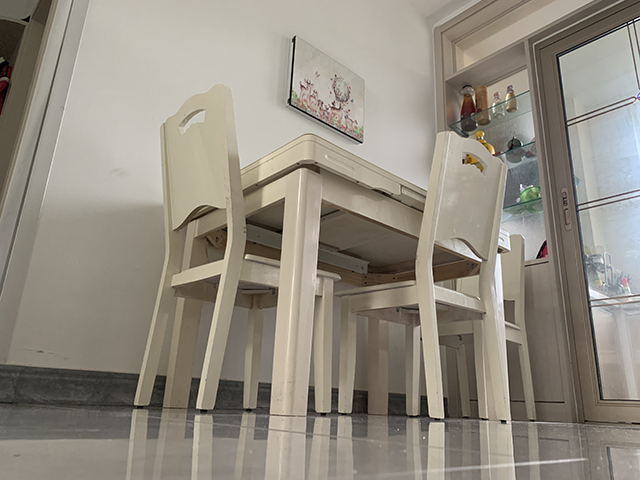stool: (130, 83, 342, 416), (332, 128, 514, 425), (421, 234, 538, 422)
table: (159, 131, 512, 423)
